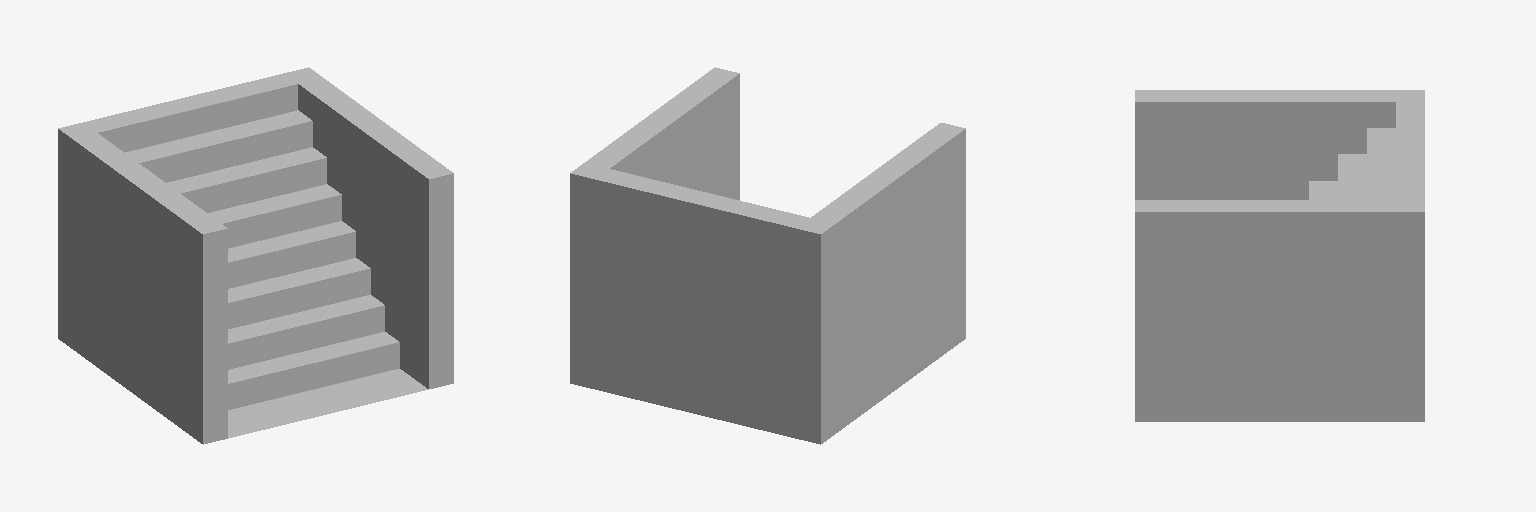
The model's file is Staircase.obj.
3 views of the same model, side by side, from view 1: azimuth 30°, elevation 25°; view 2: azimuth 150°, elevation 25°; view 3: azimuth 270°, elevation 25° (orthographic).
Parts seen in each view (by area): view 1: Cube_Cube.001; view 2: Cube_Cube.001; view 3: Cube_Cube.001.
Part boxes in pixels (bbox=[...]): Cube_Cube.001: bbox=[58, 67, 453, 444]; Cube_Cube.001: bbox=[570, 67, 965, 444]; Cube_Cube.001: bbox=[1135, 90, 1424, 421].
Bounding box in the file's own units: 10 × 8 × 10.